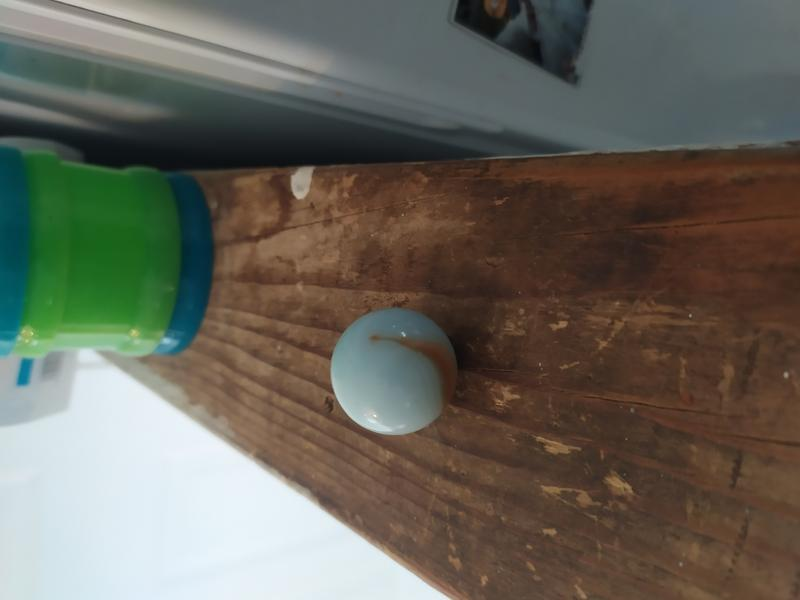Warning: (326, 303, 466, 443)
